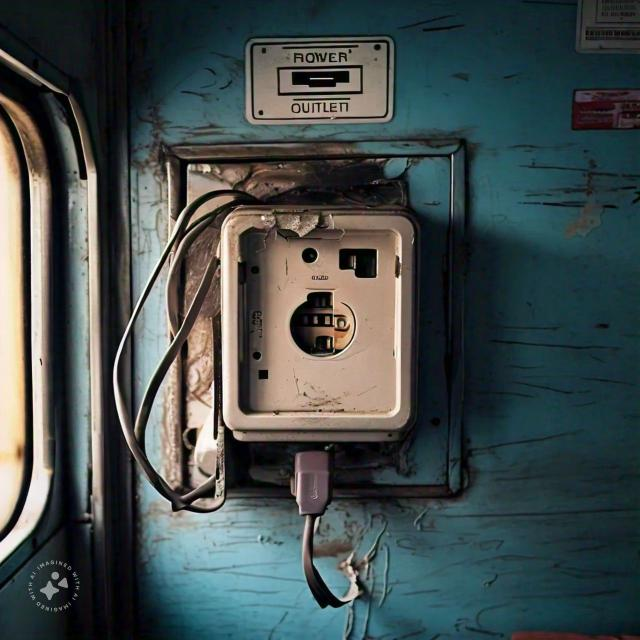Charging_Points: (157, 121, 490, 496)
